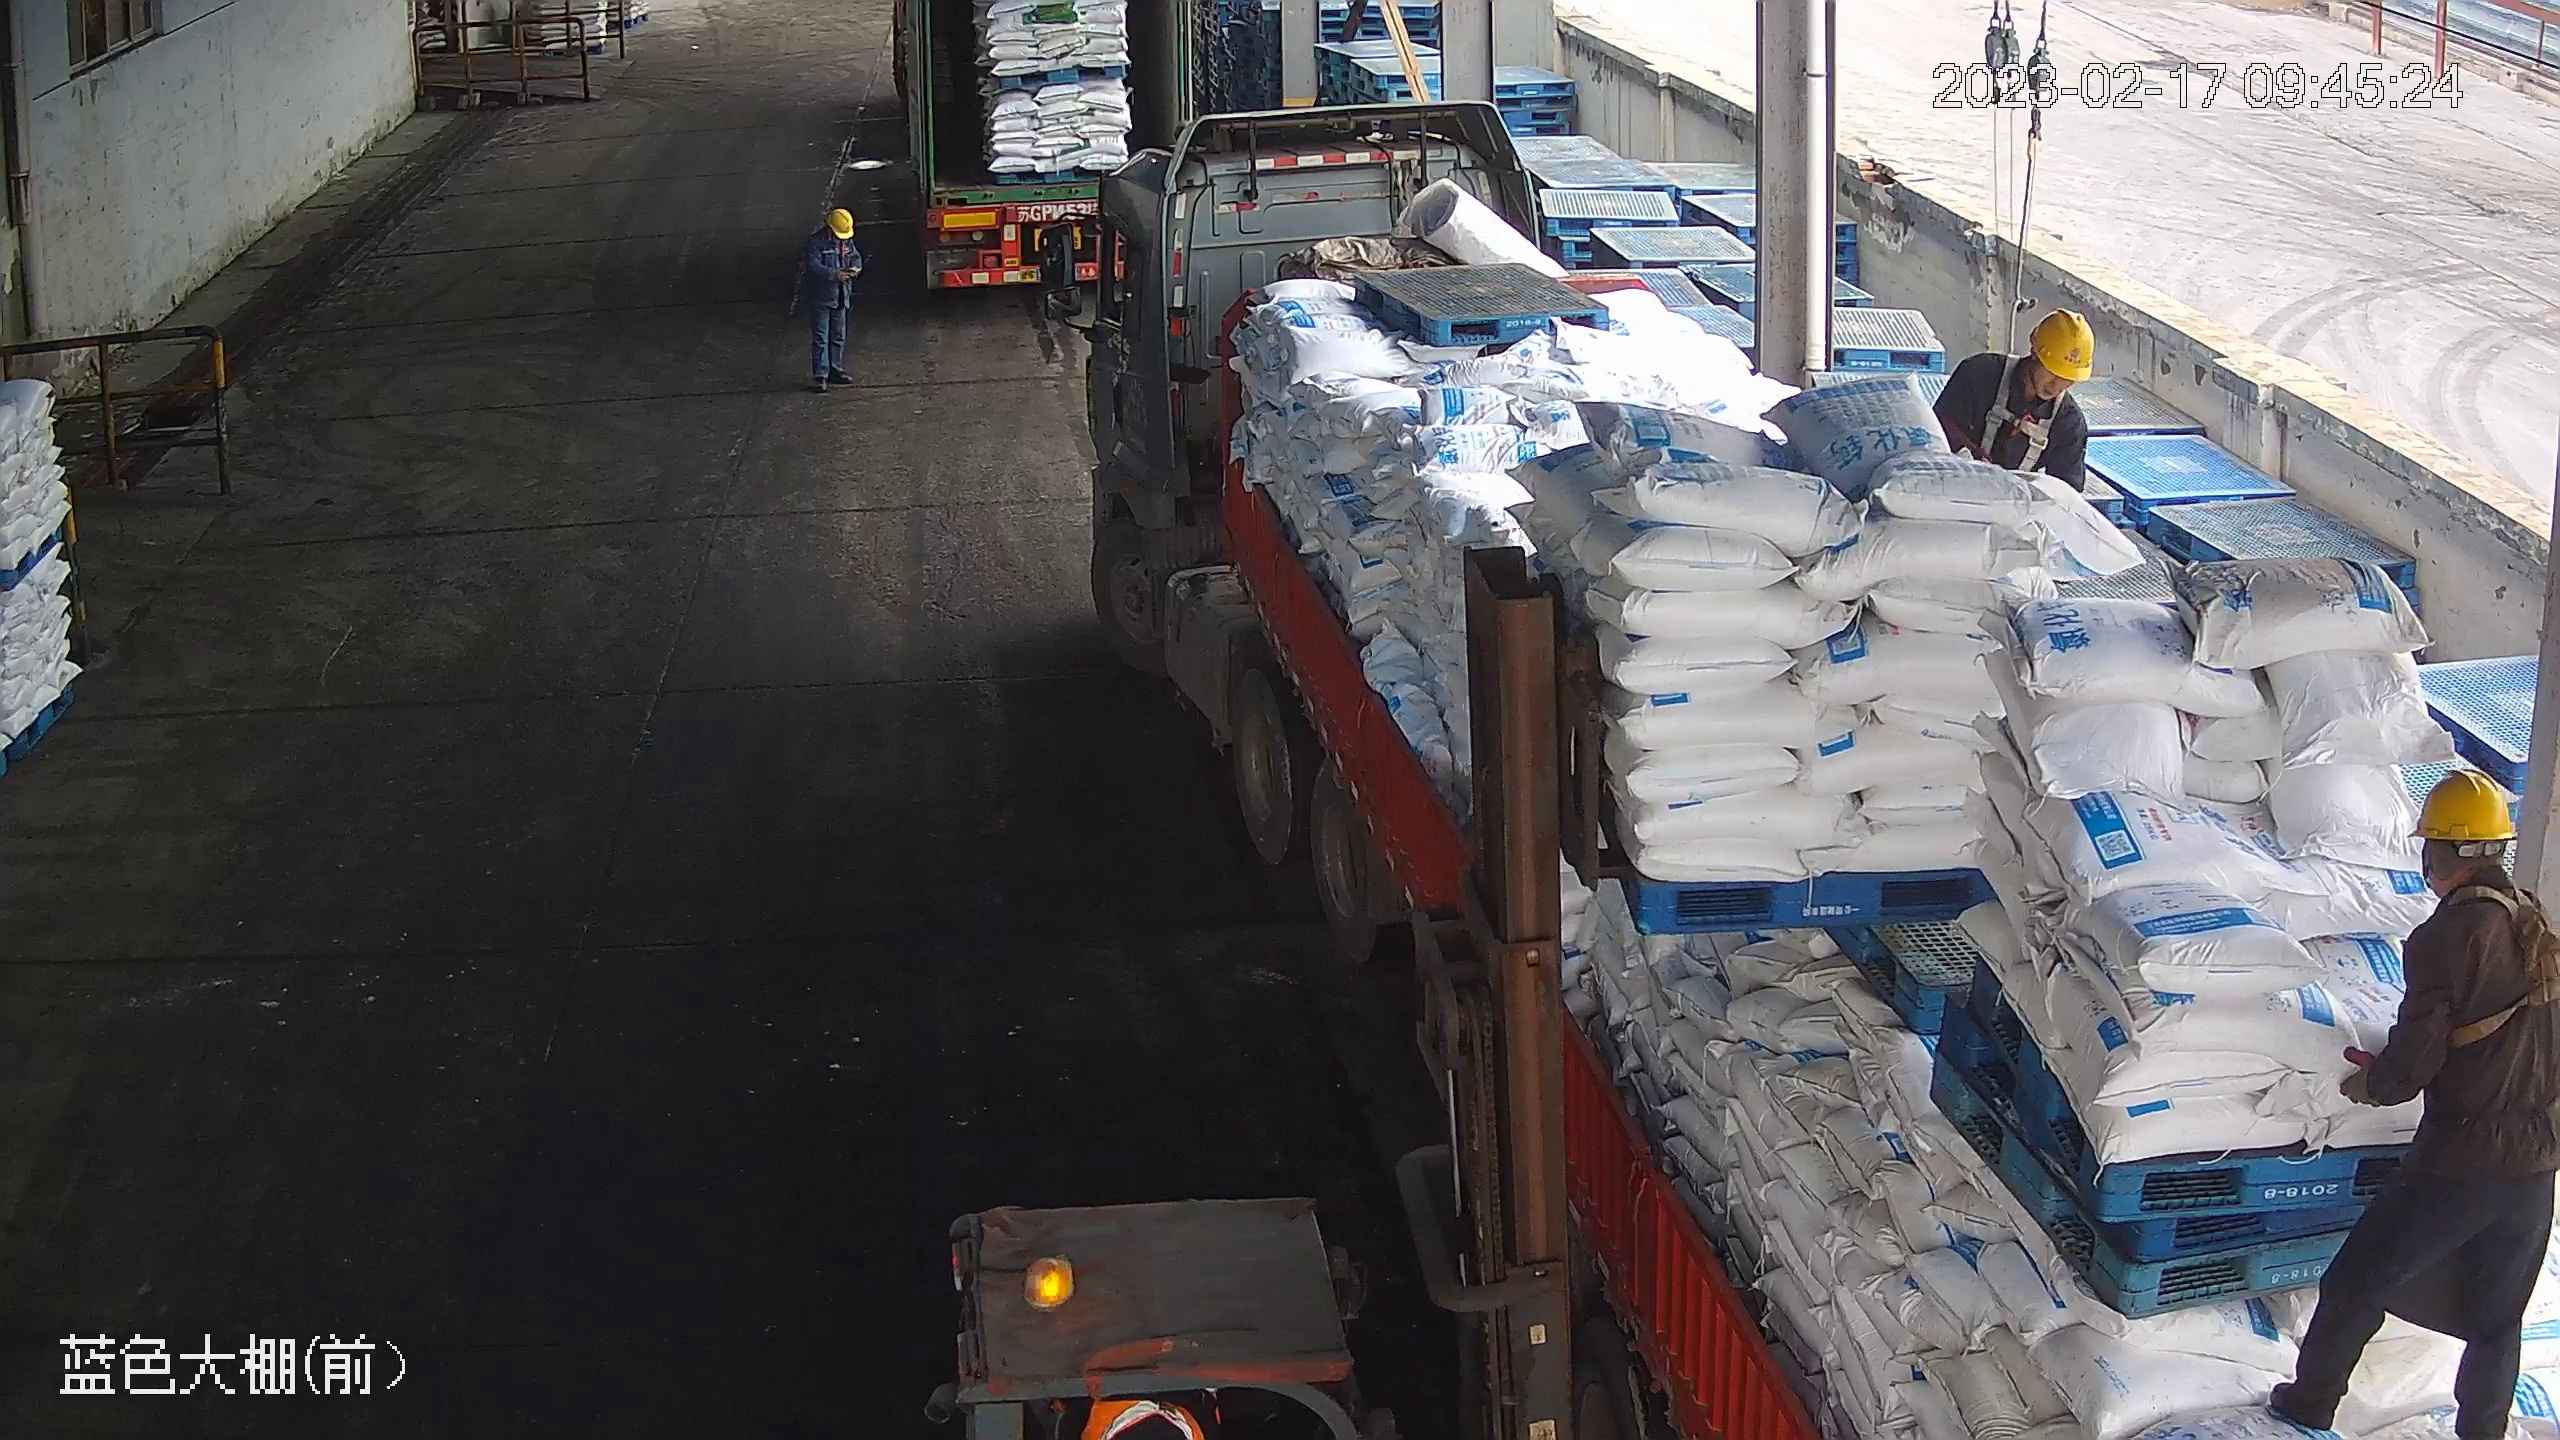belt: (2445, 878, 2560, 1042), (1992, 367, 2056, 470)
head: (2370, 764, 2557, 973), (1953, 303, 2098, 436), (800, 205, 863, 263)
helmet: (2399, 762, 2516, 847), (2028, 301, 2104, 381), (824, 205, 857, 232)
people: (2264, 757, 2559, 1438), (798, 204, 866, 390)
truck: (1064, 106, 2558, 1440), (896, 1, 1203, 301)
